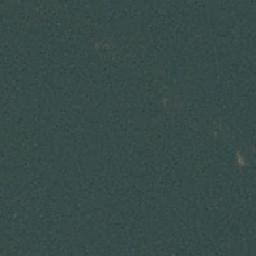debris: (235, 150, 246, 166)
